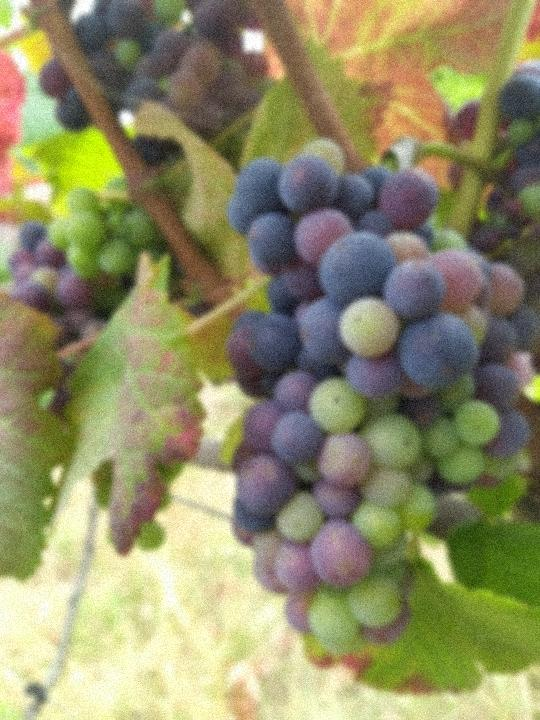grape: (222, 137, 538, 655)
